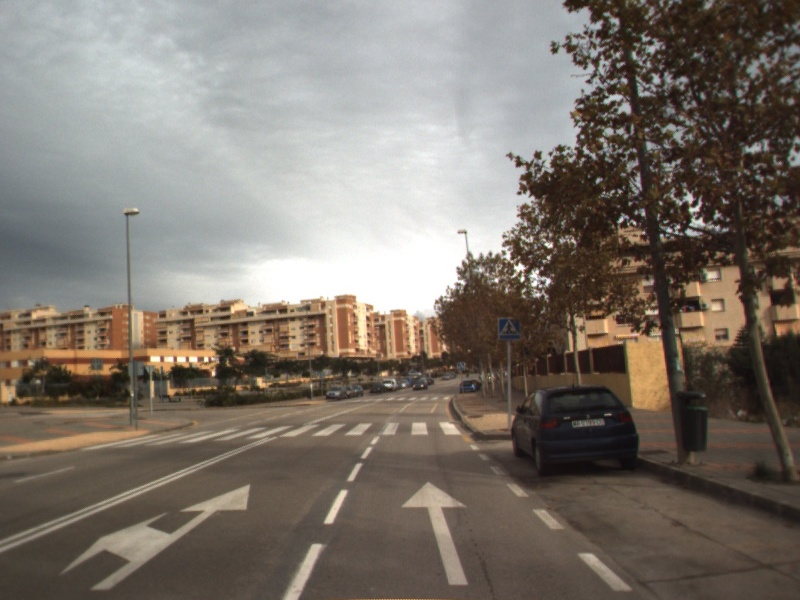STRAIGHT: (399, 479, 471, 588)
STRAIGHT_LEFT: (58, 482, 252, 593)
